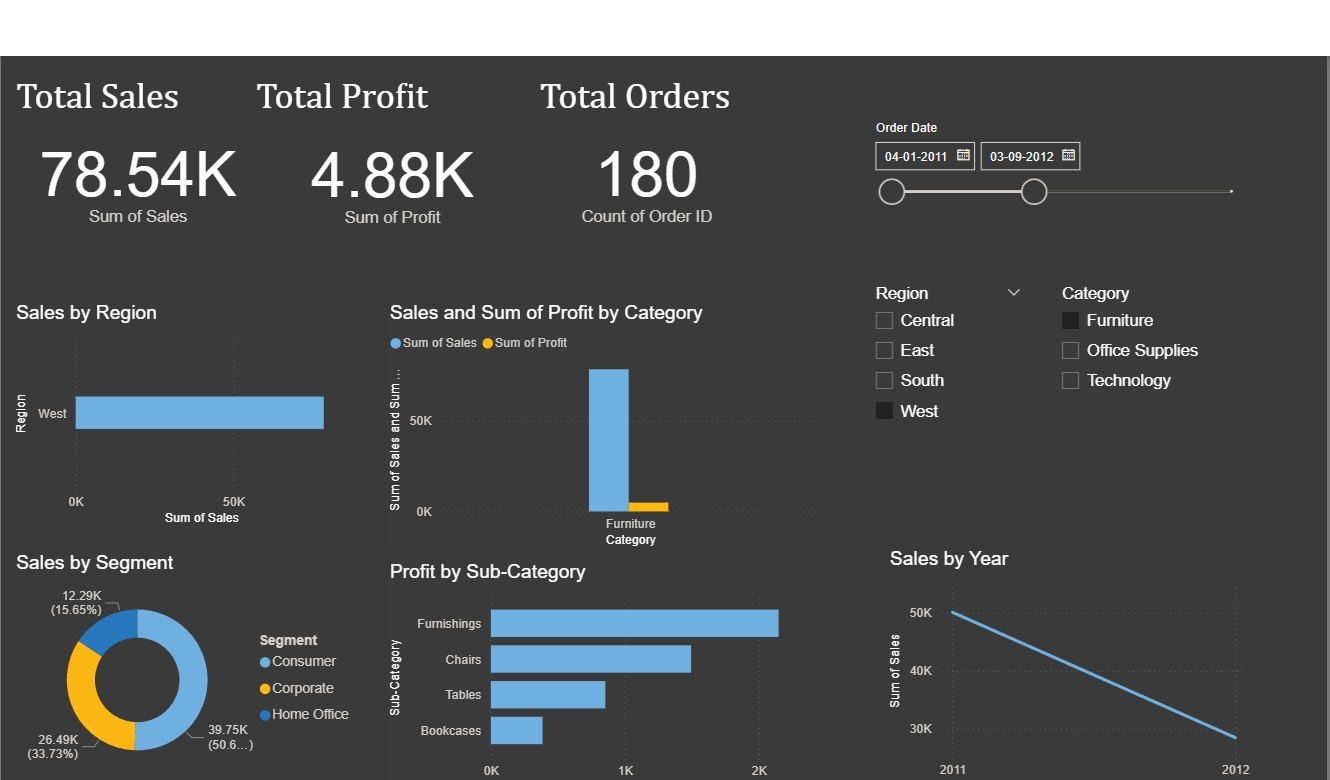

This screenshot's page, from the dashboard's own definition file:
{"tool":"powerbi","page":{"name":"Page 1","canvas":[1280,720],"ordinal":0},"visuals":[{"type":"card","title":"Total Sales","fields":{"Values":["Sum(Orders.Sales)"]},"box":[10,20,245.6,160],"z":0},{"type":"card","title":"Total Profit","fields":{"Values":["Sum(Orders.Profit)"]},"box":[241.7,20,273.3,161.7],"z":1000},{"type":"card","title":"Total Orders","fields":{"Values":["Count(Orders.Order ID)"]},"box":[515,20,216.7,160],"z":2000},{"type":"clusteredBarChart","title":" Sales by Region","fields":{"Category":["Orders.Region"],"Y":["Sum(Orders.Sales)"]},"box":[9.8,239.8,322.5,220.2],"z":3000},{"type":"clusteredColumnChart","title":"Sales and Sum of Profit by Category","fields":{"Category":["Orders.Category"],"Y":["Sum(Orders.Sales)","Sum(Orders.Profit)"]},"box":[370.2,239.8,424.9,241.2],"z":4000},{"type":"lineChart","title":"Sales by Year","fields":{"Category":["Orders.Order Date.Variation.Date Hierarchy.Year","Orders.Order Date.Variation.Date Hierarchy.Quarter","Orders.Order Date.Variation.Date Hierarchy.Month","Orders.Order Date.Variation.Date Hierarchy.Day"],"Y":["Sum(Orders.Sales)"]},"box":[852.6,478.2,357.6,241.2],"z":5000},{"type":"donutChart","title":"Sales by Segment","fields":{"Category":["Orders.Segment"],"Y":["Sum(Orders.Sales)"]},"box":[10,481.5,340,227],"z":6000},{"type":"barChart","title":"Profit by Sub-Category","fields":{"Category":["Orders.Sub-Category"],"Y":["Sum(Orders.Profit)"]},"box":[370.2,489.4,438.9,230],"z":7000},{"type":"slicer","fields":{"Values":["Orders.Region"]},"box":[831.6,218.8,165.5,159.9],"z":8000},{"type":"slicer","fields":{"Values":["Orders.Category"]},"box":[1011,218.8,172.5,159.9],"z":9000},{"type":"slicer","fields":{"Values":["Orders.Order Date"]},"box":[831.6,60.3,378.6,137.4],"z":10000}]}

Visuals, with their boxes on the page's 1280x720 design canvas (x1, y1, x2, y2). These are canvas units, not pixel positions in the 1330x780 screenshot, which may show the page scaled, cropped or inside an application window:
"Total Sales" card: [10, 20, 256, 180]
"Total Profit" card: [242, 20, 515, 182]
"Total Orders" card: [515, 20, 732, 180]
" Sales by Region" clusteredBarChart: [10, 240, 332, 460]
"Sales and Sum of Profit by Category" clusteredColumnChart: [370, 240, 795, 481]
"Sales by Year" lineChart: [853, 478, 1210, 719]
"Sales by Segment" donutChart: [10, 482, 350, 708]
"Profit by Sub-Category" barChart: [370, 489, 809, 719]
slicer - Orders.Region: [832, 219, 997, 379]
slicer - Orders.Category: [1011, 219, 1184, 379]
slicer - Orders.Order Date: [832, 60, 1210, 198]
